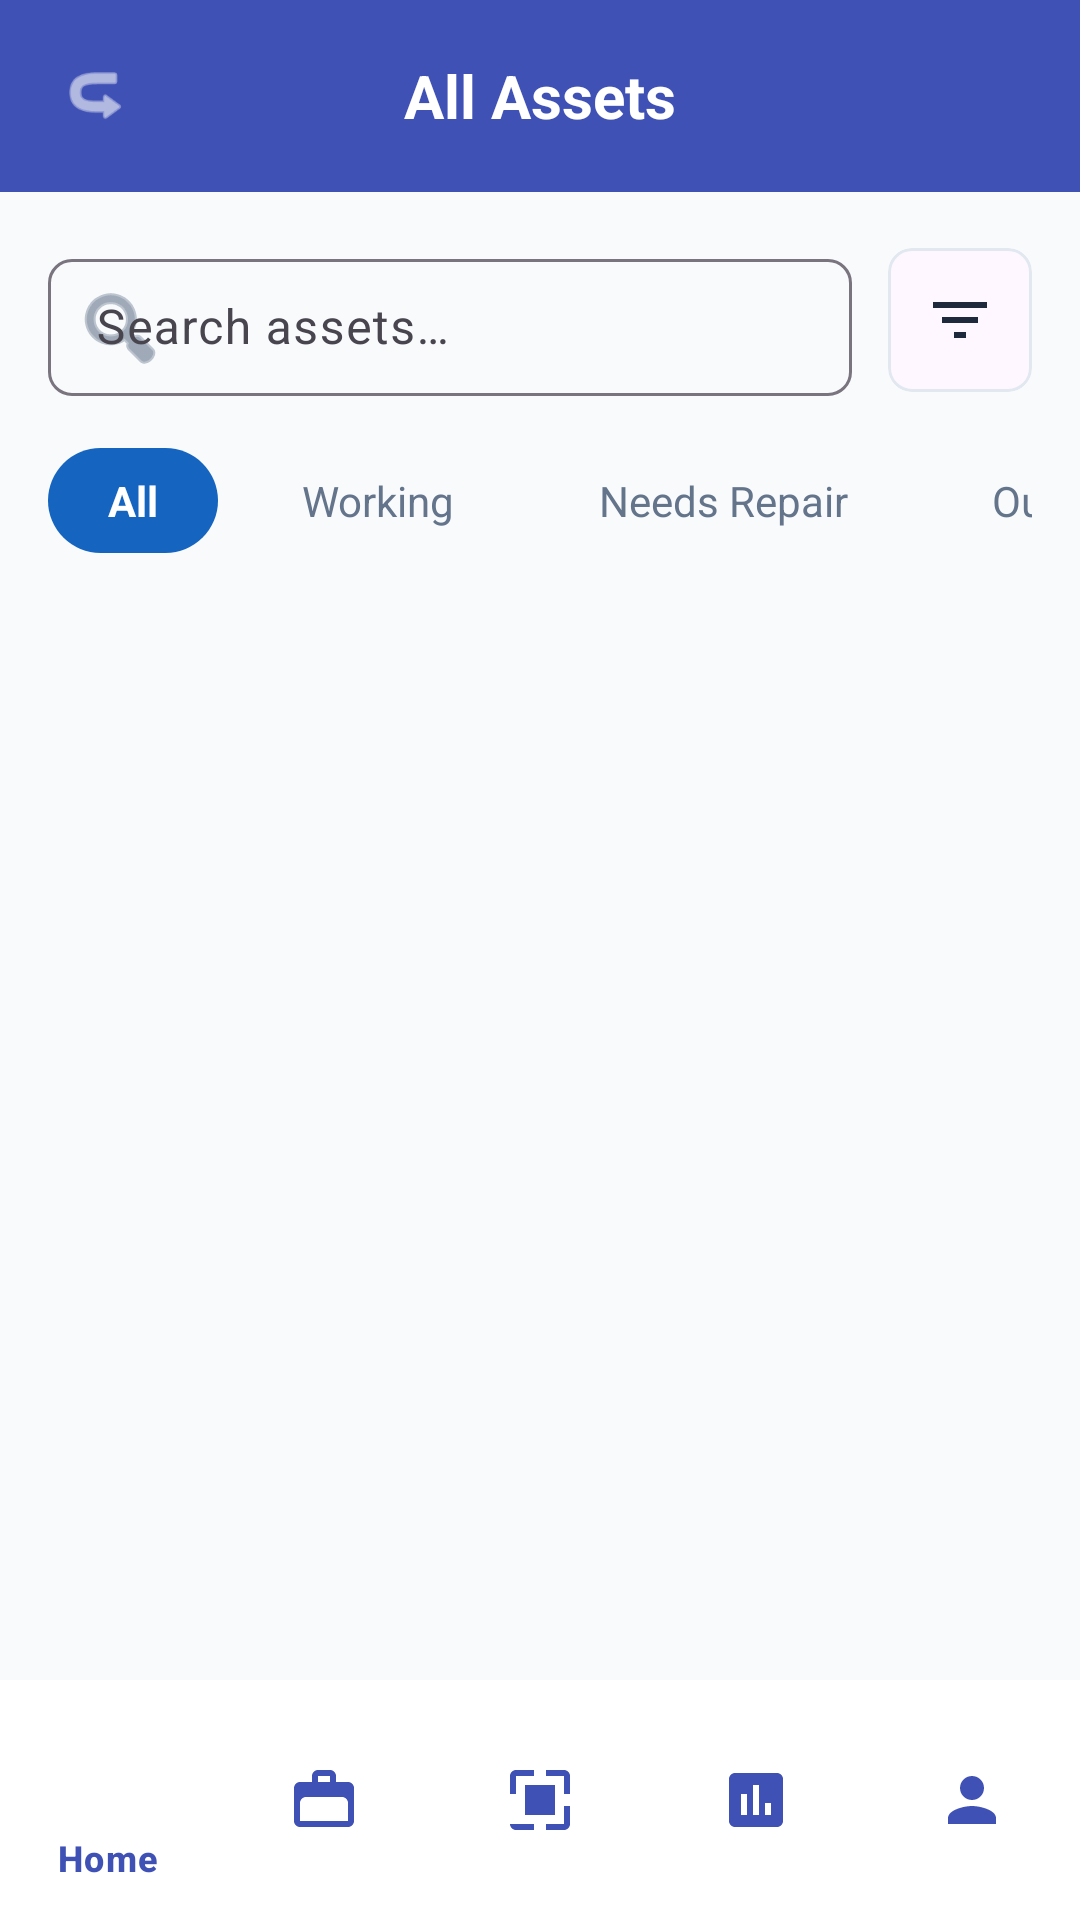

Screen size 1080w x 1920h. Icon name, then its center in pixels as (x=x, y=y):
filter: (x=960, y=320)
